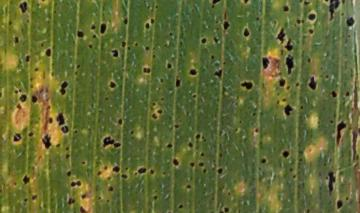tarspot: (325, 1, 343, 25), (101, 134, 122, 152), (334, 119, 345, 147), (283, 54, 296, 77), (327, 167, 336, 195), (239, 78, 255, 93), (57, 79, 71, 96), (274, 25, 287, 43), (41, 133, 53, 152), (16, 1, 32, 15), (307, 73, 318, 93), (19, 173, 33, 187), (211, 66, 225, 80), (108, 46, 121, 61), (282, 102, 294, 118), (334, 195, 346, 211), (186, 65, 199, 79), (260, 55, 270, 72), (305, 11, 318, 24), (11, 131, 23, 145), (344, 15, 355, 30), (279, 148, 292, 160), (55, 112, 66, 126), (172, 76, 183, 90), (221, 19, 232, 33), (211, 33, 221, 48), (108, 77, 117, 93), (170, 156, 181, 169), (183, 180, 194, 193), (44, 45, 54, 59), (111, 163, 122, 175), (65, 195, 77, 206), (164, 141, 176, 152), (241, 26, 252, 38), (69, 179, 83, 188), (75, 29, 86, 40), (141, 65, 152, 76), (276, 77, 287, 88), (221, 202, 232, 213), (329, 88, 339, 100), (176, 200, 186, 212), (280, 2, 290, 14), (72, 61, 84, 71), (99, 22, 107, 36), (294, 15, 302, 29), (26, 129, 36, 140), (137, 165, 147, 176), (198, 36, 208, 47), (150, 192, 160, 203), (12, 34, 21, 46), (259, 155, 268, 167), (207, 51, 216, 63), (107, 183, 115, 196), (343, 88, 351, 101), (61, 126, 71, 136), (64, 169, 74, 179), (30, 94, 39, 105), (18, 93, 29, 102), (84, 42, 95, 51), (121, 16, 130, 27), (53, 140, 62, 151), (293, 79, 302, 90), (186, 138, 194, 150), (307, 26, 315, 38), (143, 43, 151, 55), (165, 28, 173, 40), (115, 117, 125, 126), (23, 53, 32, 63), (164, 60, 173, 70), (46, 116, 55, 126), (147, 167, 156, 177), (189, 91, 199, 100), (33, 65, 43, 74), (89, 22, 97, 33), (79, 190, 87, 201), (216, 166, 224, 177), (193, 130, 201, 141), (196, 159, 205, 168), (198, 150, 207, 159), (21, 197, 30, 206), (63, 152, 71, 162), (77, 205, 87, 213), (252, 15, 262, 23), (119, 38, 126, 49), (90, 32, 99, 40), (187, 161, 196, 169), (172, 122, 180, 131), (132, 39, 140, 48), (239, 1, 251, 7), (120, 173, 129, 181), (94, 169, 103, 177), (210, 1, 224, 6), (306, 55, 312, 66), (30, 194, 39, 201), (80, 158, 87, 167), (144, 22, 151, 30), (155, 108, 163, 115), (298, 104, 305, 111)
